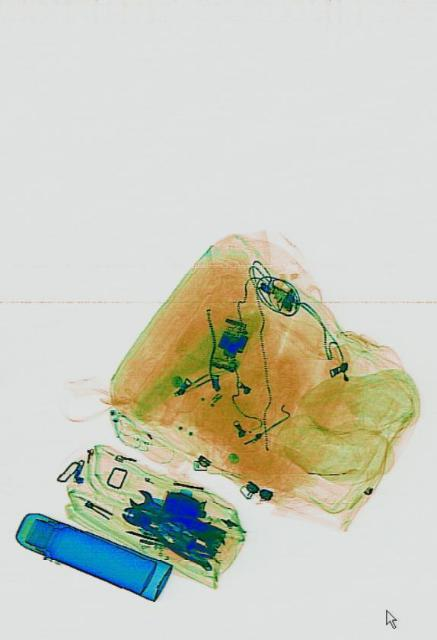Pliers: (116, 485, 213, 569)
Wrench: (125, 482, 196, 540)
